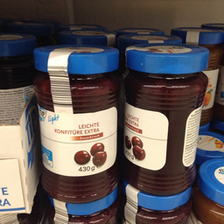jam: (32, 42, 123, 204), (121, 42, 211, 195)
